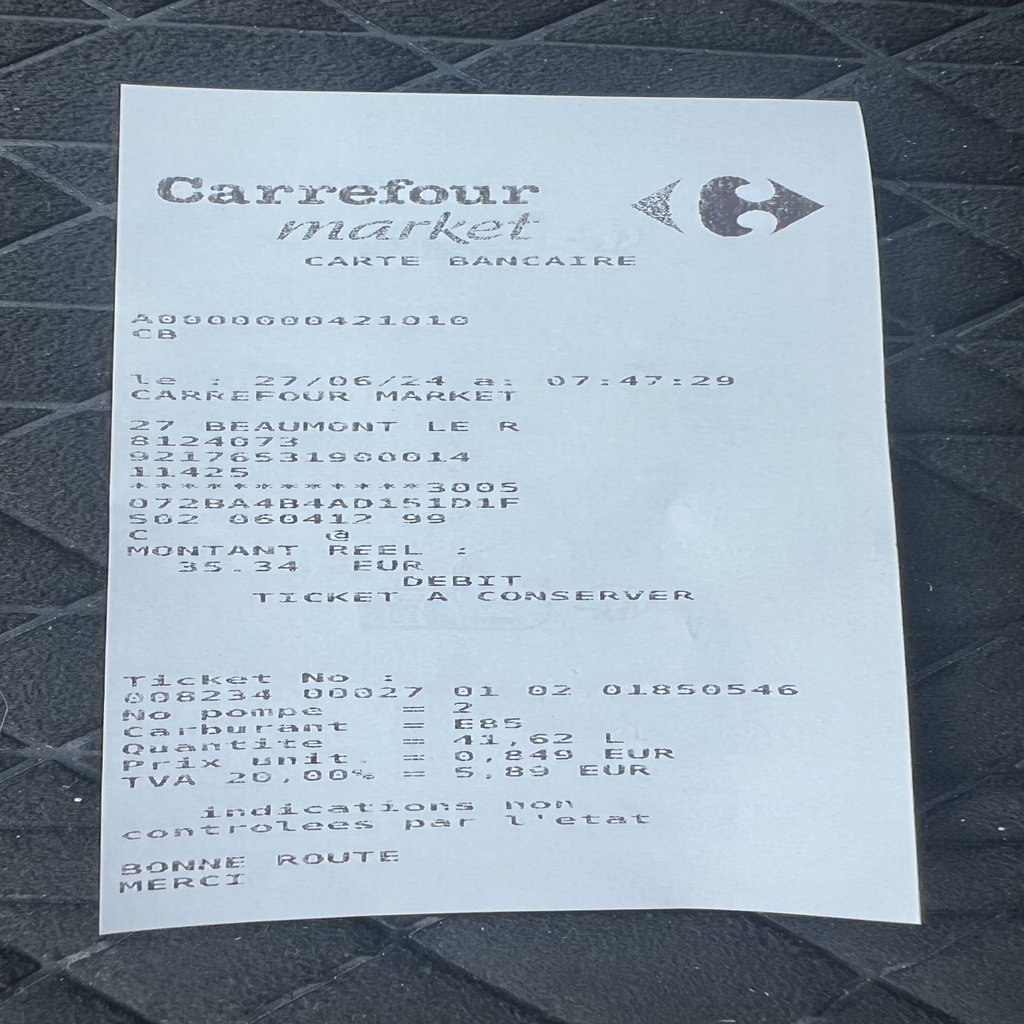recipt: (101, 82, 921, 936)
